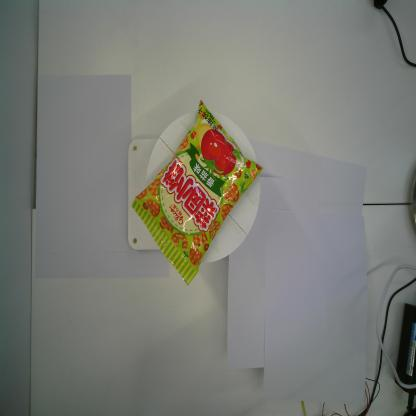Puffed Food: (131, 99, 264, 286)
